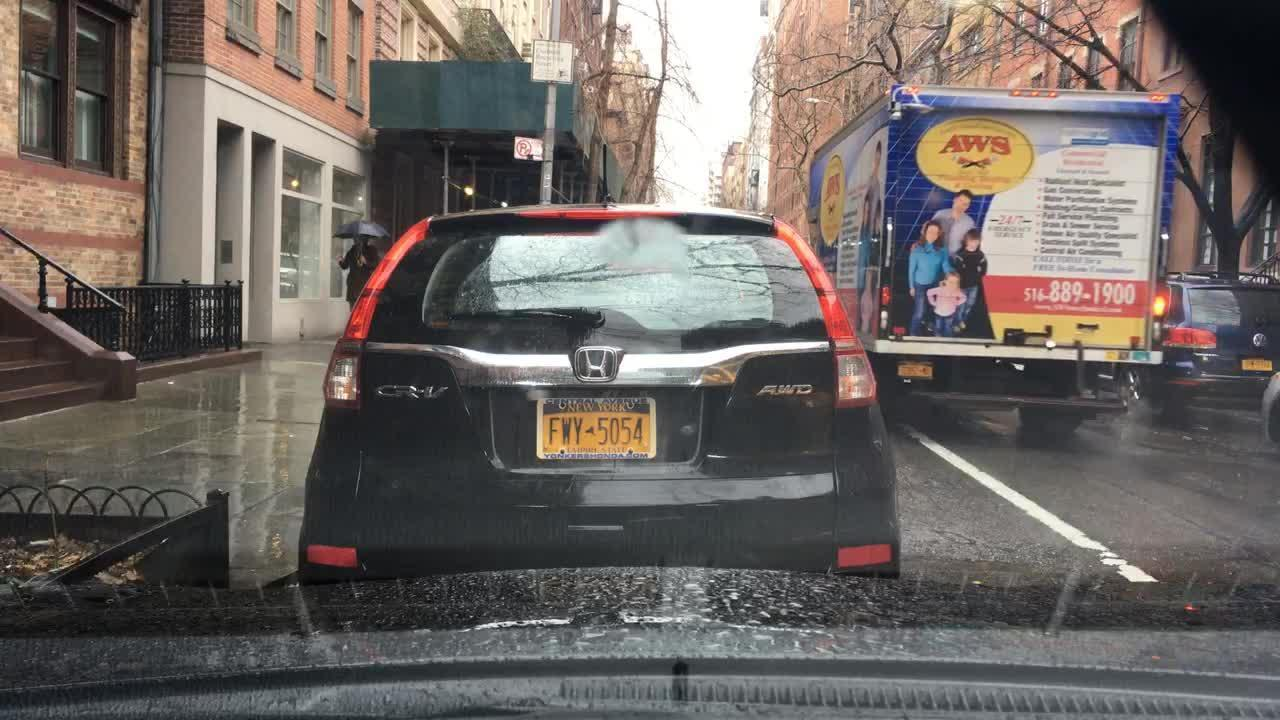Honda: (561, 341, 628, 389)
Volkswagen: (1244, 326, 1271, 356)
